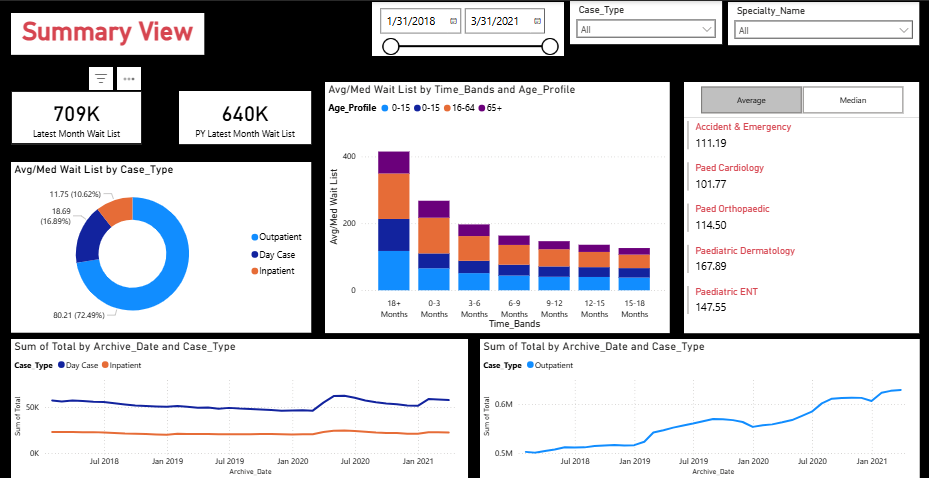

The dashboard page shown, as its layout file describes it:
{"tool":"powerbi","page":{"name":"Sammary Page","canvas":[1400,720],"ordinal":0},"visuals":[{"type":"card","fields":{"Values":["calculations.Latest Month Wait List"]},"box":[49.7,128,135.5,52.7],"z":0},{"type":"slicer","fields":{"Values":["calculations.Calc Method"]},"box":[1028.2,102.4,353.8,55.7],"z":1000},{"type":"donutChart","fields":{"Category":["all_data.Case_Type"],"Y":["calculations.Avg/Med Wait List"]},"box":[49.7,266.5,392.9,222.8],"z":2000},{"type":"columnChart","title":"Wait List Analysis - Time Band vs Age Profile","fields":{"Y":["calculations.Avg/Med Wait List"],"Category":["all_data.Time_Bands"],"Series":["all_data.Age_Profile"]},"box":[514.8,185.2,519.4,304.1],"z":3000},{"type":"multiRowCard","fields":{"Values":["specialityMap.Specialty_Name","calculations.Avg/Med Wait List"]},"box":[1061.3,191.2,290.5,313.1],"z":4000},{"type":"card","fields":{"Values":["calculations.NoDataLeft"]},"box":[128,543.4,436.6,147.5],"z":4500},{"type":"card","fields":{"Values":["calculations.NoDataRight"]},"box":[815.9,543.4,436.6,147.5],"z":4750},{"type":"lineChart","title":"Day Case / Inpatient","fields":{"Category":["all_data.Archive_Date"],"Y":["Sum(all_data.Total)"],"Series":["all_data.Case_Type"]},"box":[40.6,510.3,609.7,209.2],"z":5000},{"type":"lineChart","title":"Outpatient","fields":{"Category":["all_data.Archive_Date"],"Y":["Sum(all_data.Total)"],"Series":["all_data.Case_Type"]},"box":[755.7,510.3,611.2,209.2],"z":7000},{"type":"slicer","fields":{"Values":["all_data.Archive_Date"]},"box":[529.9,4.5,281.5,81.3],"z":8000},{"type":"slicer","fields":{"Values":["all_data.Case_Type"]},"box":[832.5,9,228.8,64.7],"z":9000},{"type":"slicer","fields":{"Values":["all_data.Specialty_Name"]},"box":[1094.4,9,287.5,64.7],"z":10000},{"type":"textbox","box":[75.3,49.7,290.5,40.6],"z":11000},{"type":"card","fields":{"Values":["calculations.PY Latest Month Wait List"]},"box":[308.6,128,105.4,52.7],"z":12000},{"type":"card","fields":{"Values":["calculations.Avg/Med Wait List"]},"box":[128,340.2,135.5,75.3],"z":13000},{"type":"textbox","box":[93.3,102.4,290.5,37.6],"z":14000},{"type":"textbox","box":[16.6,169,201.7,37.6],"z":15000},{"type":"textbox","box":[239.4,169,243.9,37.6],"z":16000},{"type":"shape","box":[605.2,543.4,170.1,176.1],"z":17000},{"type":"actionButton","box":[429,48.2,126.5,40.6],"z":18000},{"type":"textbox","box":[408,501.3,566,42.2],"z":19000},{"type":"textbox","box":[1071.8,158.1,271,33.1],"z":20000},{"type":"card","fields":{"Values":["calculations.Dynamic Title"]},"box":[597.6,105.4,355.3,52.7],"z":21000},{"type":"textbox","box":[72.3,233.3,349.2,46.7],"z":22000},{"type":"textbox","box":[0,10.5,442.6,45.2],"z":23000}]}

Visuals, with their boxes in screenshot pixels (x1, y1, x2, y2), scaled from the page's 1400x720 canvas onto the 929x478 screenshot:
card - calculations.Latest Month Wait List: 33/85/123/120
slicer - calculations.Calc Method: 682/68/917/105
donutChart - all_data.Case_Type x calculations.Avg/Med Wait List: 33/177/294/325
"Wait List Analysis - Time Band vs Age Profile" columnChart: 342/123/686/325
multiRowCard - specialityMap.Specialty_Name x calculations.Avg/Med Wait List: 704/127/897/335
card - calculations.NoDataLeft: 85/361/375/459
card - calculations.NoDataRight: 541/361/831/459
"Day Case / Inpatient" lineChart: 27/339/432/477
"Outpatient" lineChart: 501/339/907/477
slicer - all_data.Archive_Date: 352/3/538/57
slicer - all_data.Case_Type: 552/6/704/49
slicer - all_data.Specialty_Name: 726/6/917/49
textbox: 50/33/243/60
card - calculations.PY Latest Month Wait List: 205/85/275/120
card - calculations.Avg/Med Wait List: 85/226/175/276
textbox: 62/68/255/93
textbox: 11/112/145/137
textbox: 159/112/321/137
shape: 402/361/514/477
actionButton: 285/32/369/59
textbox: 271/333/646/361
textbox: 711/105/891/127
card - calculations.Dynamic Title: 397/70/632/105
textbox: 48/155/280/186
textbox: 0/7/294/37
